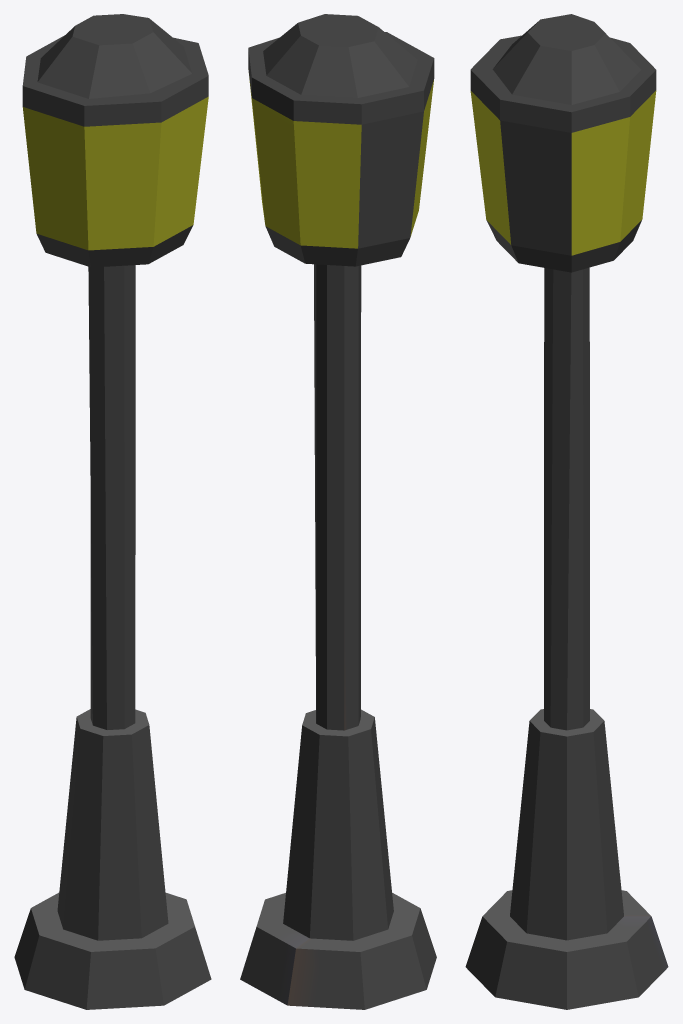
The model's file is M_ParkLamp.fbx.
3 views of the same model, side by side, from view 1: azimuth 30°, elevation 25°; view 2: azimuth 150°, elevation 25°; view 3: azimuth 270°, elevation 25° (orthographic).
Visible parts, largest first — view 1: Lamp; view 2: Lamp; view 3: Lamp.
Boxes of the visible parts, <box> form: Lamp: <box>14,14,211,1009</box>; Lamp: <box>240,14,436,1009</box>; Lamp: <box>465,14,668,1009</box>.
Bounding box in the file's own units: 290 × 1475 × 290.
